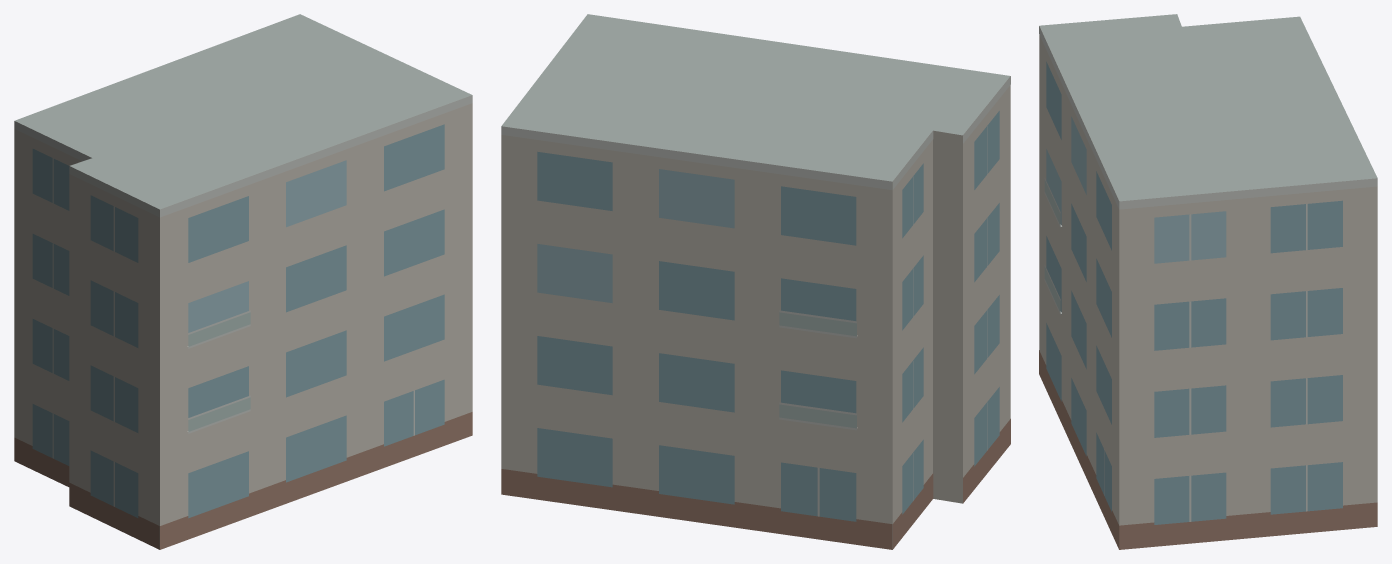
File: survey-upis-32917584.glb
3 views of the same model, side by side, from view 1: azimuth 30°, elevation 25°; view 2: azimuth 150°, elevation 25°; view 3: azimuth 270°, elevation 25° (orthographic). The views are drawn at different scales.
Visible parts, largest first — view 1: survey-upis-32917584.tmp; view 2: survey-upis-32917584.tmp; view 3: survey-upis-32917584.tmp.
Part boxes in pixels (box(x1,y1,x2,y2)): survey-upis-32917584.tmp: box(14, 14, 472, 549); survey-upis-32917584.tmp: box(501, 14, 1010, 549); survey-upis-32917584.tmp: box(1039, 14, 1377, 549).
Bounding box in the file's own units: 12 × 10.4 × 9.17.
